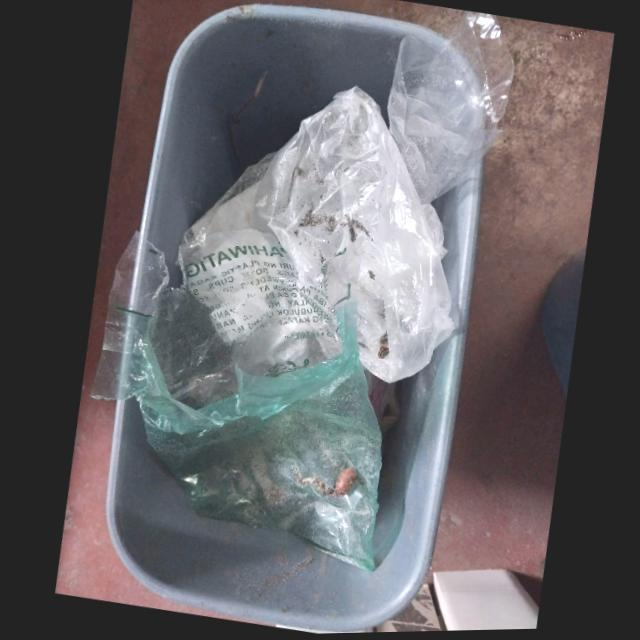plastic: (88, 231, 375, 577), (176, 91, 456, 382), (387, 13, 512, 208)
